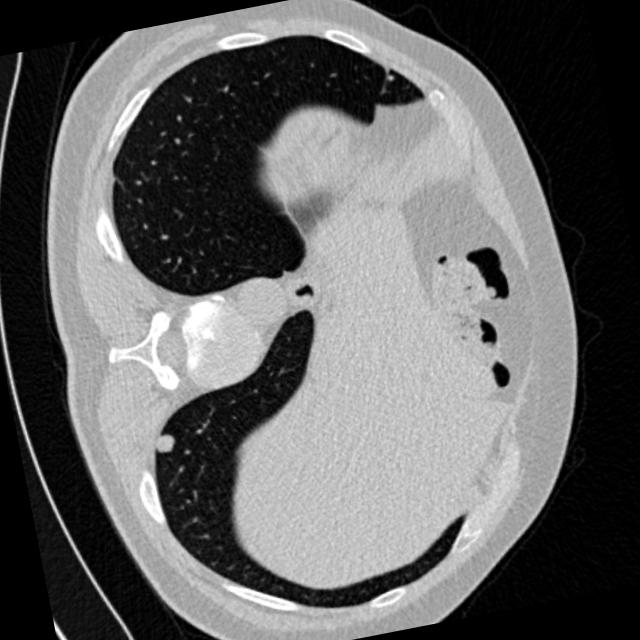nodule: (143, 422, 190, 469)
